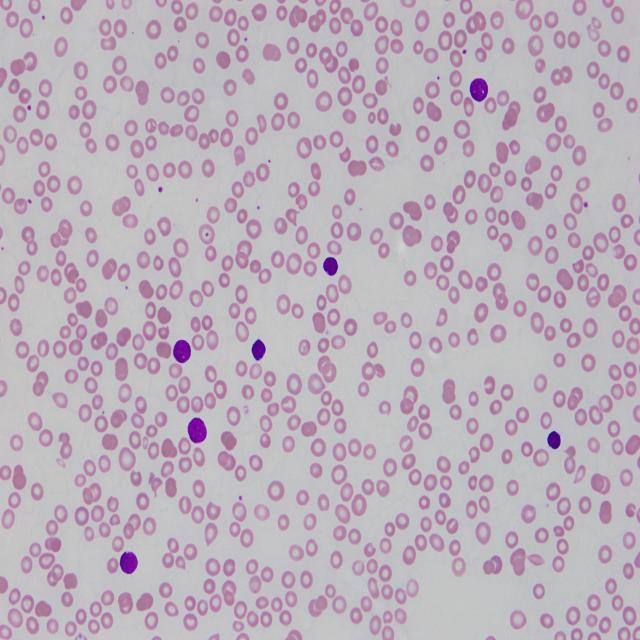cell: (188, 417, 208, 443), (174, 340, 191, 363), (120, 552, 138, 573), (251, 338, 266, 360), (322, 257, 338, 277), (548, 432, 561, 450)
